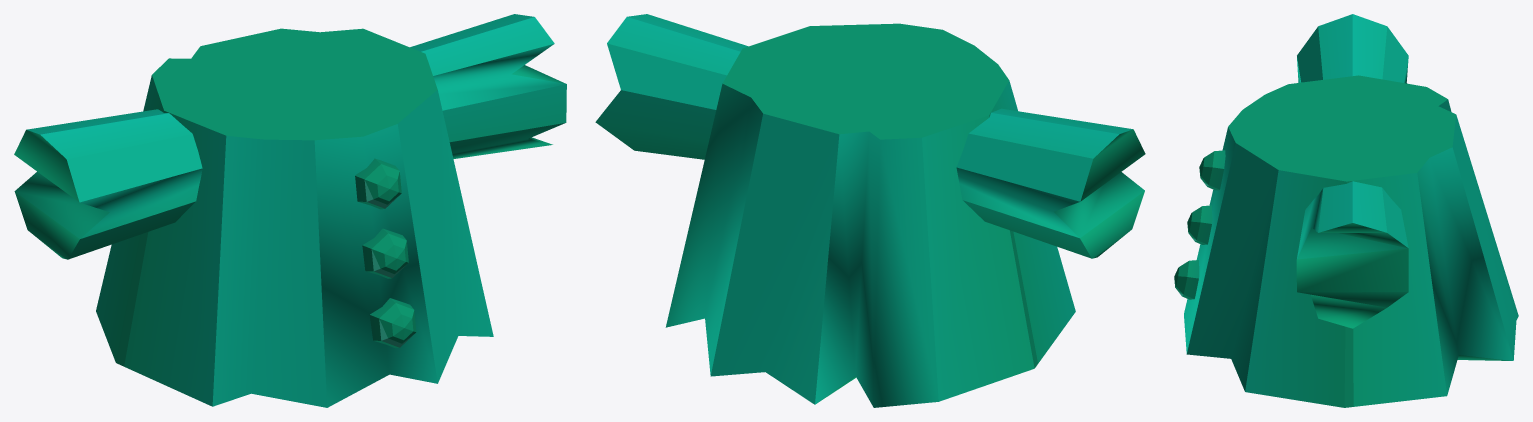
Rendered from scareCrowGreenShirt.glb.
3 renders of one model, left to right at view 1: azimuth 30°, elevation 25°; view 2: azimuth 150°, elevation 25°; view 3: azimuth 270°, elevation 25°, orthographic. The views are drawn at different scales.
Visible parts, largest first — view 1: scareCrowGreenShirt; view 2: scareCrowGreenShirt; view 3: scareCrowGreenShirt.
Boxes of the visible parts, x1,y1,x2,y2 form: scareCrowGreenShirt: (14,14,566,407); scareCrowGreenShirt: (595,14,1145,407); scareCrowGreenShirt: (1174,14,1518,407).
Bounding box in the file's own units: 0.581 × 0.2823 × 0.41.
